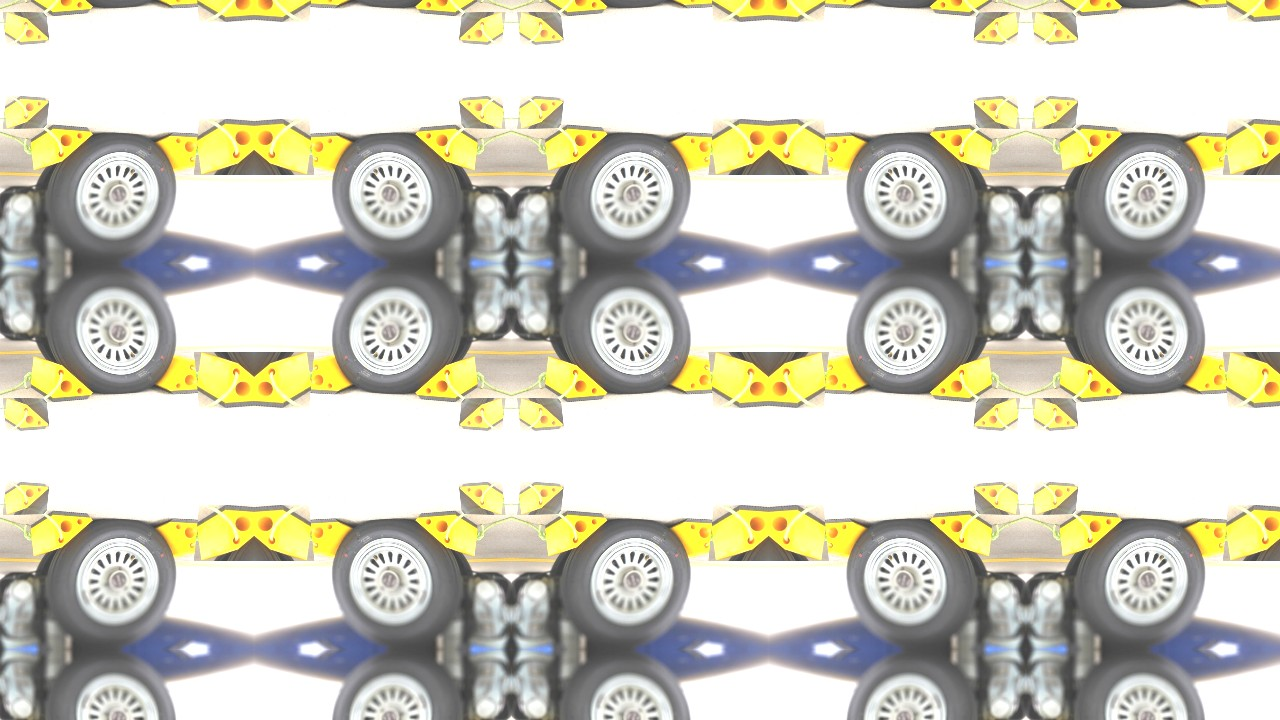chock: (193, 117, 254, 175), (708, 117, 769, 175), (254, 117, 314, 175), (769, 117, 829, 175), (193, 352, 254, 409), (708, 352, 769, 409), (193, 504, 254, 561), (708, 504, 769, 561), (254, 352, 314, 409), (769, 352, 829, 409), (254, 504, 314, 561), (769, 504, 829, 561), (1223, 117, 1280, 175), (1223, 352, 1280, 409), (1223, 504, 1280, 561), (27, 124, 94, 171), (413, 124, 480, 171), (542, 124, 609, 171), (928, 124, 995, 171), (1057, 124, 1124, 171), (27, 356, 94, 403), (413, 356, 480, 403), (542, 356, 609, 403), (928, 356, 995, 403), (1057, 356, 1124, 403), (27, 510, 94, 557), (413, 510, 480, 557), (542, 510, 609, 557), (928, 510, 995, 557), (1057, 510, 1124, 557), (150, 132, 205, 173), (303, 132, 358, 173), (665, 132, 720, 173), (818, 132, 873, 173), (1180, 132, 1235, 173), (150, 354, 205, 395), (303, 354, 358, 395), (665, 354, 720, 395), (818, 354, 873, 395), (1180, 354, 1235, 395), (150, 518, 205, 559), (303, 518, 358, 559), (665, 518, 720, 559), (818, 518, 873, 559), (1180, 518, 1235, 559), (2, 11, 49, 45), (458, 11, 505, 45), (517, 11, 564, 45), (973, 11, 1020, 45), (1032, 11, 1079, 45), (2, 95, 49, 129), (458, 95, 505, 129), (517, 95, 564, 129), (973, 95, 1020, 129), (1032, 95, 1079, 129), (2, 398, 49, 432), (458, 398, 505, 432), (517, 398, 564, 432), (973, 398, 1020, 432), (1032, 398, 1079, 432), (2, 481, 49, 515), (458, 481, 505, 515), (517, 481, 564, 515), (973, 481, 1020, 515), (1032, 481, 1079, 515), (193, 0, 254, 23), (708, 0, 769, 23), (254, 0, 314, 23), (769, 0, 829, 23), (1223, 0, 1280, 23), (27, 0, 94, 16), (413, 0, 480, 16), (542, 0, 609, 16), (928, 0, 995, 16), (1057, 0, 1124, 16), (150, 0, 205, 8), (303, 0, 358, 8), (665, 0, 720, 8), (818, 0, 873, 8), (1180, 0, 1235, 8)
wheel: (42, 132, 182, 260), (326, 132, 466, 260), (557, 132, 697, 260), (841, 132, 981, 260), (1072, 132, 1212, 260), (42, 267, 182, 395), (326, 267, 466, 395), (557, 267, 697, 395), (841, 267, 981, 395), (1072, 267, 1212, 395), (42, 518, 182, 646), (326, 518, 466, 646), (557, 518, 697, 646), (841, 518, 981, 646), (1072, 518, 1212, 646), (42, 653, 182, 720), (326, 653, 466, 720), (557, 653, 697, 720), (841, 653, 981, 720), (1072, 653, 1212, 720), (42, 0, 182, 8), (326, 0, 466, 8), (557, 0, 697, 8), (841, 0, 981, 8), (1072, 0, 1212, 8)
